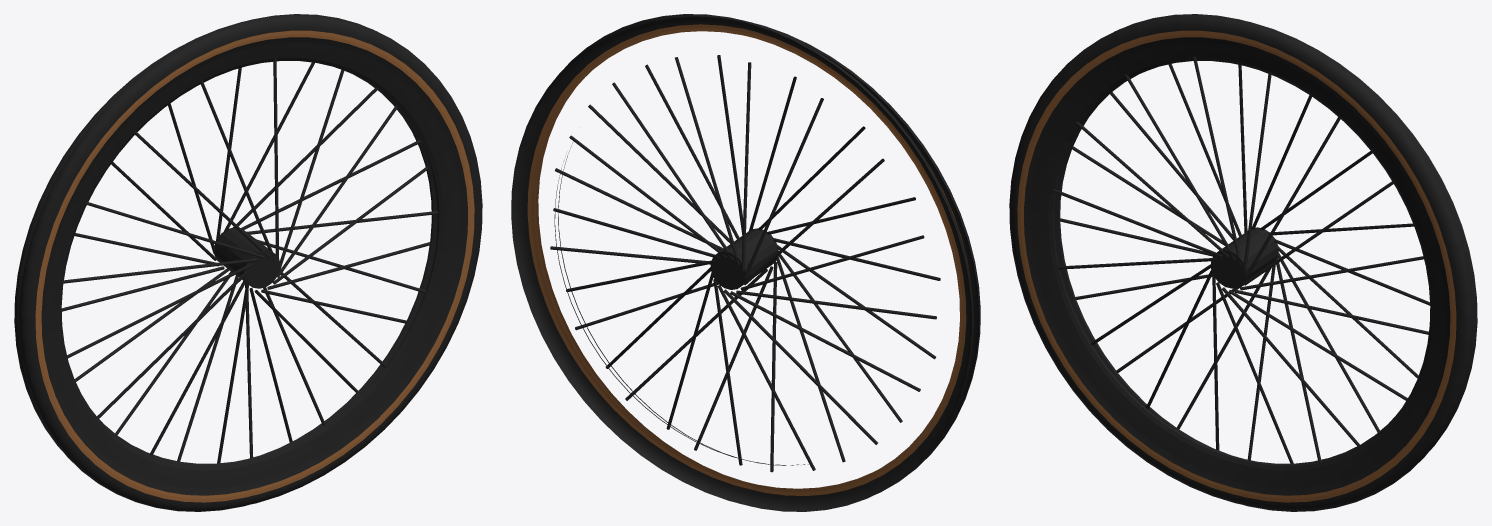
File: bikeFrontWheel.glb
3 views of the same model, side by side, from view 1: azimuth 30°, elevation 25°; view 2: azimuth 150°, elevation 25°; view 3: azimuth 330°, elevation 25° (orthographic).
Visible parts, largest first — view 1: outer, spokes, bike_front_wheel; view 2: outer, spokes, bike_front_wheel; view 3: outer, spokes, bike_front_wheel.
Boxes of the visible parts, x1,y1,x2,y2 form: outer: (14, 14, 482, 511); spokes: (62, 58, 438, 463); bike_front_wheel: (214, 228, 280, 288); outer: (511, 14, 980, 511); spokes: (550, 55, 940, 472); bike_front_wheel: (710, 228, 778, 289); outer: (1009, 14, 1477, 511); spokes: (1052, 56, 1430, 463); bike_front_wheel: (1211, 227, 1278, 288).
Size of the model in its own units: 0.6609 by 0.6592 by 0.0824.
